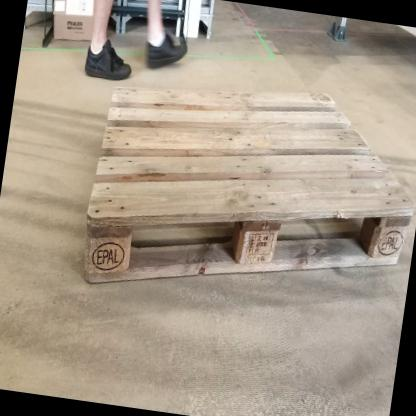BoxFace: (78, 81, 416, 295)
